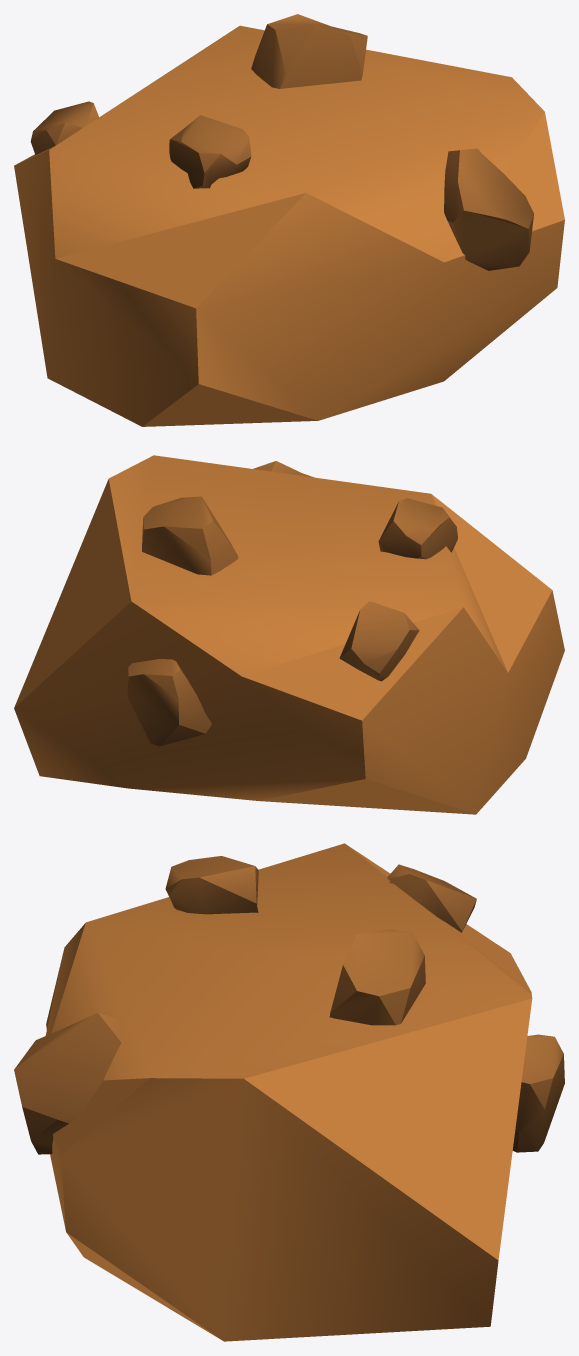
Rendered from Copper_Rock.glb.
3 views of the same model, one above another, from view 1: azimuth 30°, elevation 25°; view 2: azimuth 150°, elevation 25°; view 3: azimuth 270°, elevation 25° (orthographic). The views are drawn at different scales.
Parts seen in each view (by area): view 1: CopperOre_Geo; view 2: CopperOre_Geo; view 3: CopperOre_Geo.
Boxes of the visible parts, x1=… form: CopperOre_Geo: x1=14, y1=14, x2=564, y2=426; CopperOre_Geo: x1=14, y1=455, x2=564, y2=814; CopperOre_Geo: x1=14, y1=843, x2=564, y2=1341.
Bounding box in the file's own units: 0.0422 × 0.0258 × 0.0392.
Materials: 1 (1 with a texture image).
